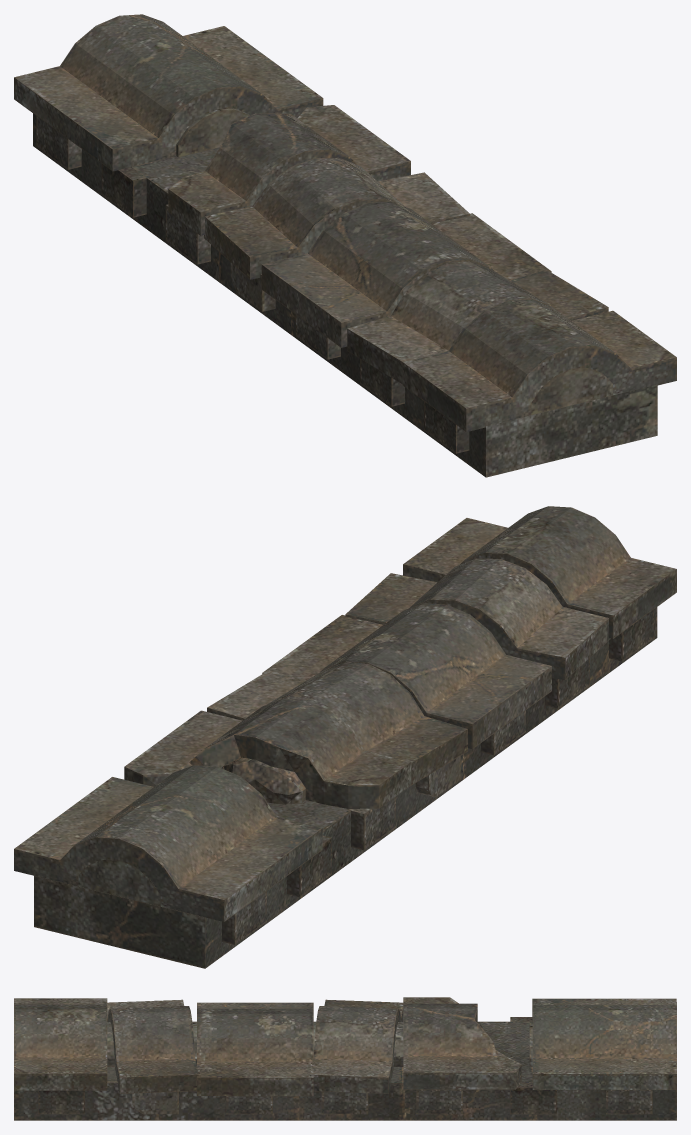
Rendered from bg_lut_lutomb_border02a_sm_old.FBX.
3 views of the same model, one above another, from view 1: azimuth 30°, elevation 25°; view 2: azimuth 150°, elevation 25°; view 3: azimuth 270°, elevation 25° (orthographic). The views are drawn at different scales.
Parts seen in each view (by area): view 1: bg_lut_lutomb_border02a_sm_old; view 2: bg_lut_lutomb_border02a_sm_old; view 3: bg_lut_lutomb_border02a_sm_old.
Part boxes in pixels (left/top/right/bottom): bg_lut_lutomb_border02a_sm_old: left=14, top=14, right=676, bottom=477; bg_lut_lutomb_border02a_sm_old: left=14, top=506, right=676, bottom=968; bg_lut_lutomb_border02a_sm_old: left=14, top=997, right=676, bottom=1120.
Bounding box in the file's own units: 71.11 × 34.62 × 256.
